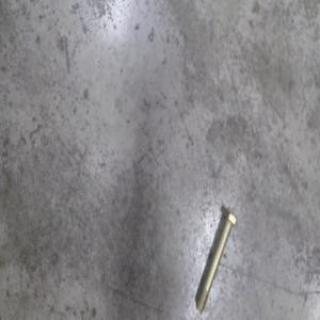Bolttrack_idkeyframe: (194, 211, 236, 312)
